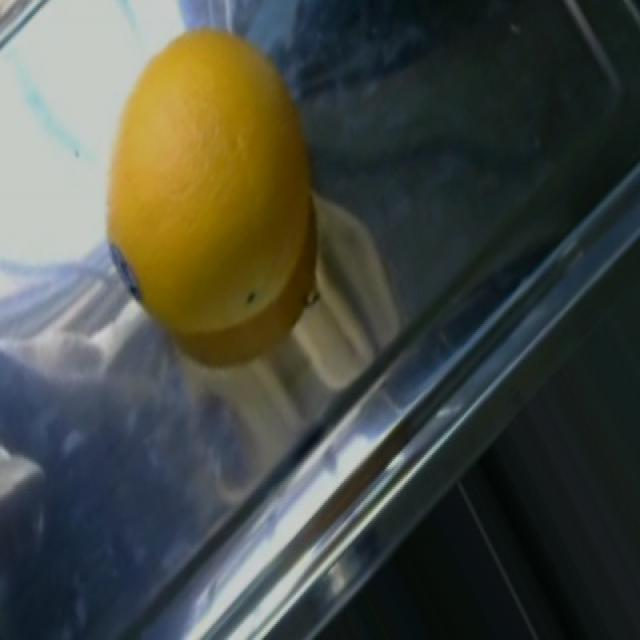Fruit: (89, 14, 340, 407)
